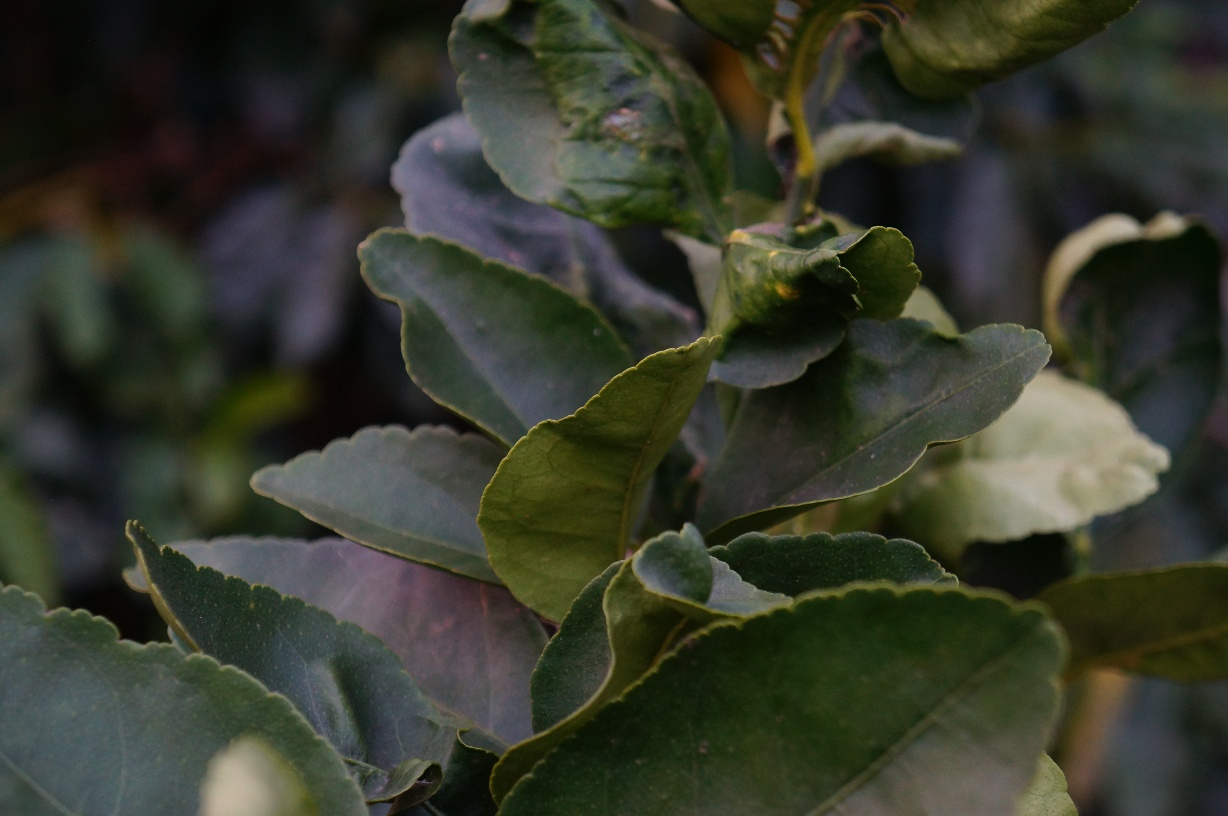damage: (695, 217, 878, 345)
